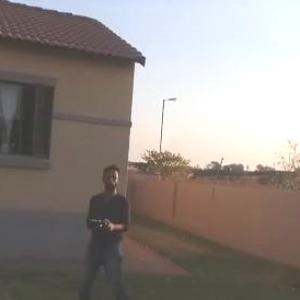follow: (64, 155, 139, 299)
